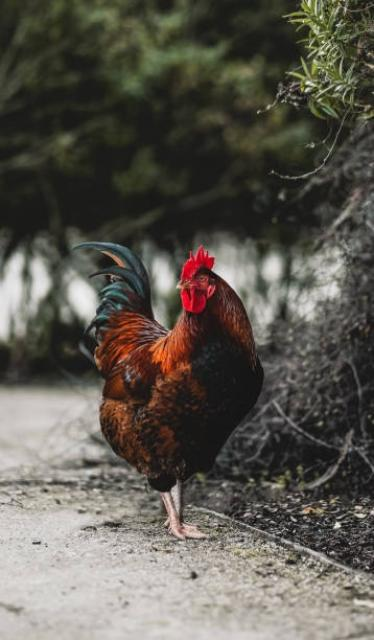Chicken: (75, 243, 263, 541)
